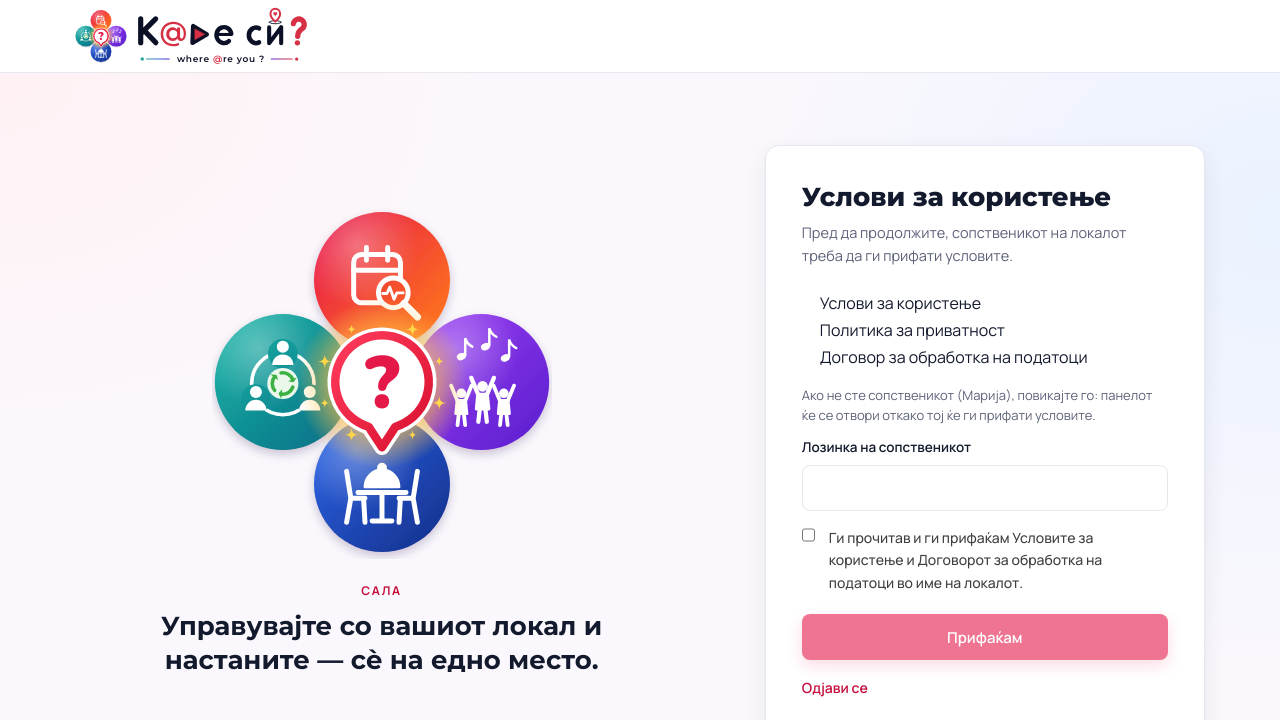
Test: TermsAcceptance › shows a wrong owner password
In the password field labelled "Лозинка на сопственикот": x=985, y=488 [802, 465, 1168, 511], type "сопственик-1"
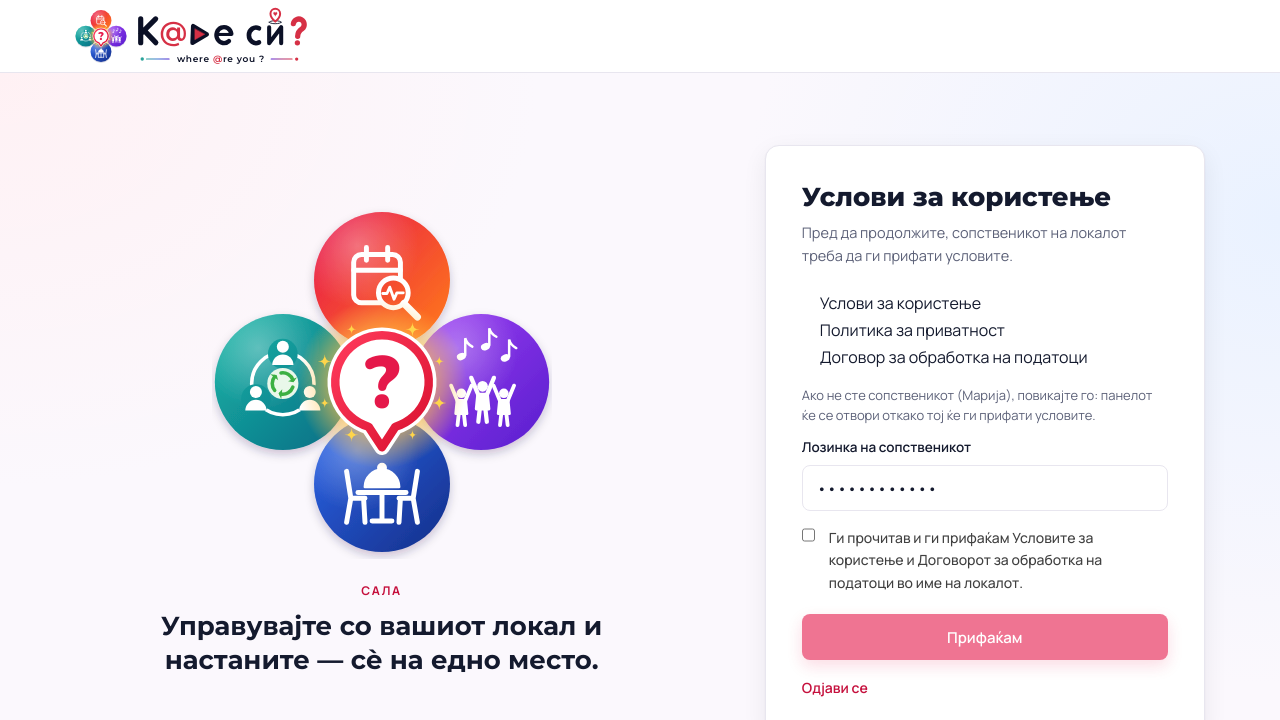
Click the checkbox: x=808, y=535 [802, 527, 815, 543]
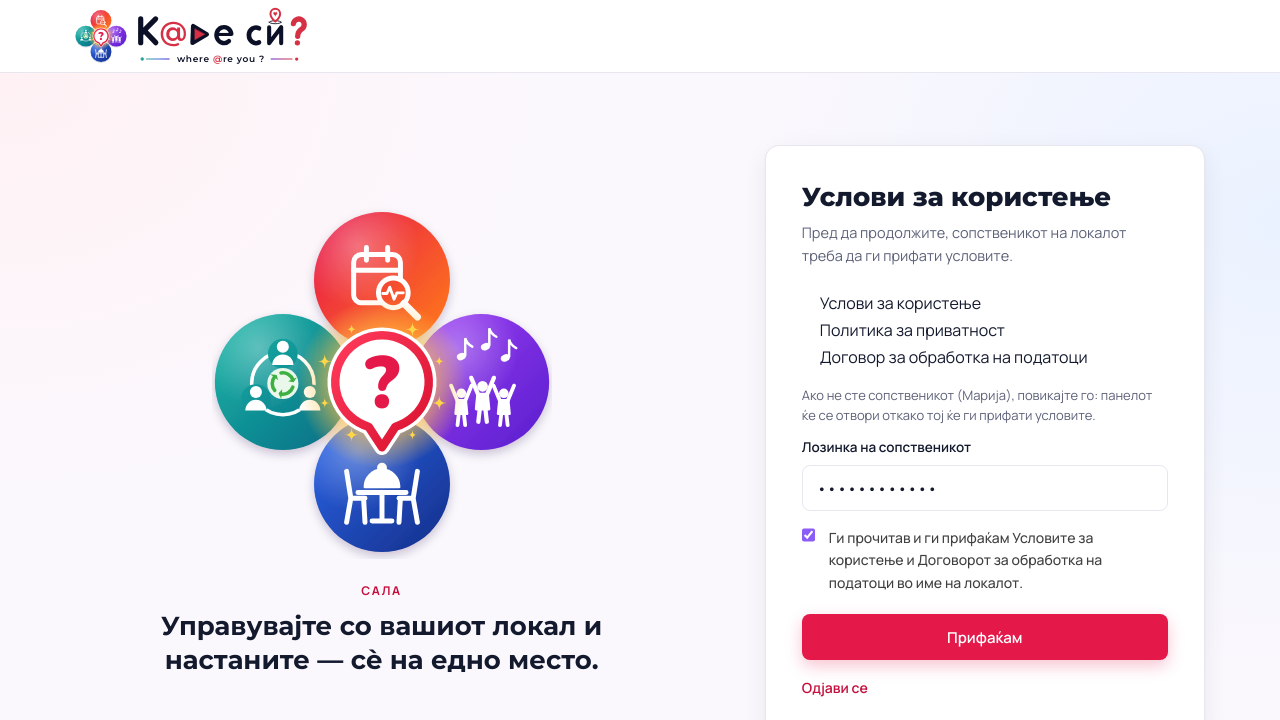
Click the button "Прифаќам": x=985, y=637 [802, 614, 1168, 660]
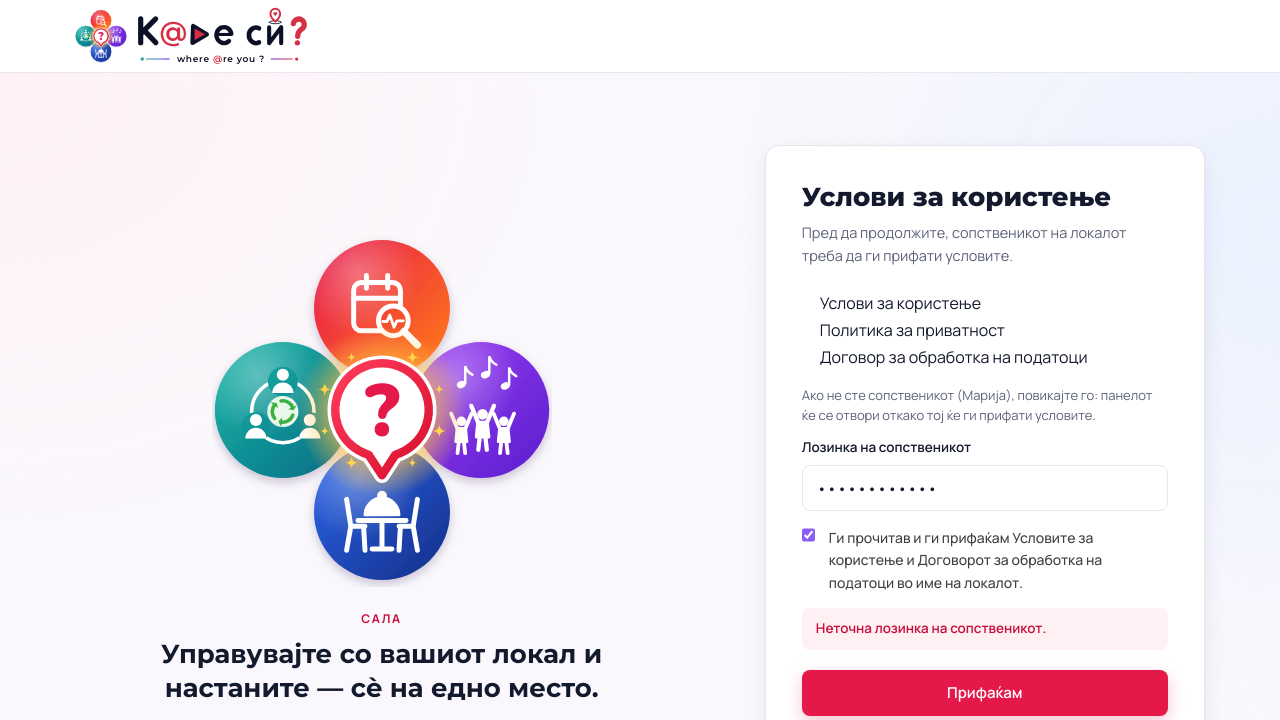
Expected: the message reads "Неточна лозинка на сопственикот.", [816, 619, 1046, 637]
